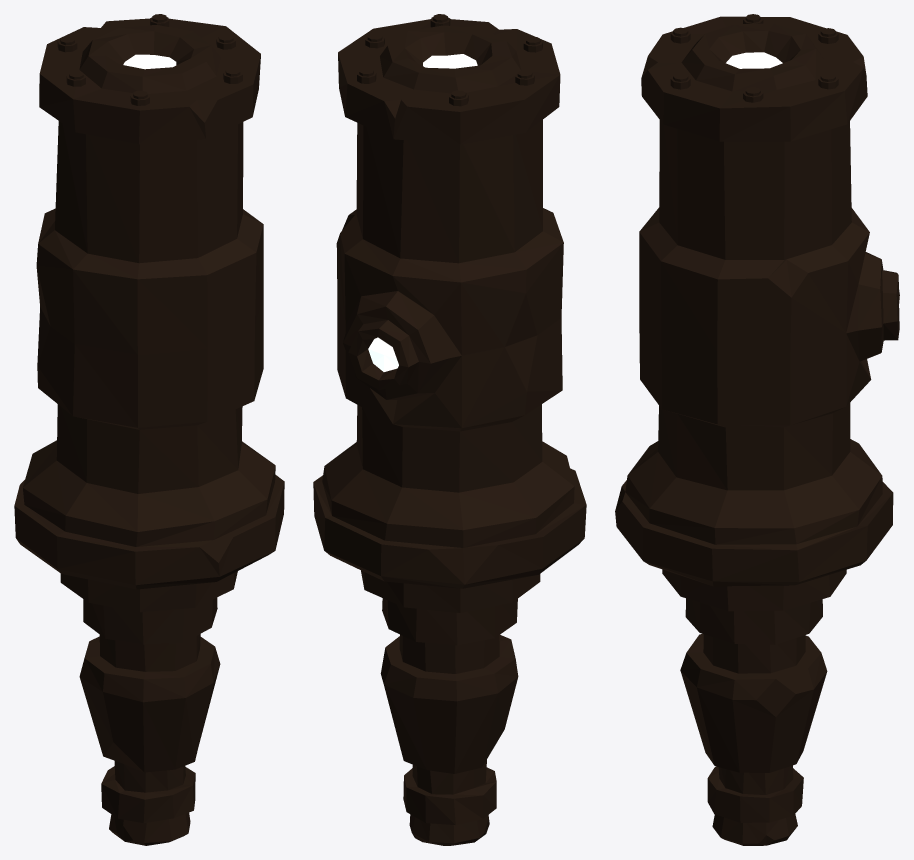
File: SFFA_Steam_Hammer_001.fbx
The picture shows the model from 3 angles, left to right: view 1: azimuth 30°, elevation 25°; view 2: azimuth 150°, elevation 25°; view 3: azimuth 270°, elevation 25°; orthographic projection.
Parts seen in each view (by area): view 1: SFFA_Steam_Hammer_001; view 2: SFFA_Steam_Hammer_001; view 3: SFFA_Steam_Hammer_001.
Part boxes in pixels (left/top/right/bottom): SFFA_Steam_Hammer_001: left=14, top=14, right=284, bottom=845; SFFA_Steam_Hammer_001: left=313, top=14, right=586, bottom=845; SFFA_Steam_Hammer_001: left=615, top=14, right=899, bottom=845.
Size of the model in its own units: 54.69 by 178 by 58.46.
